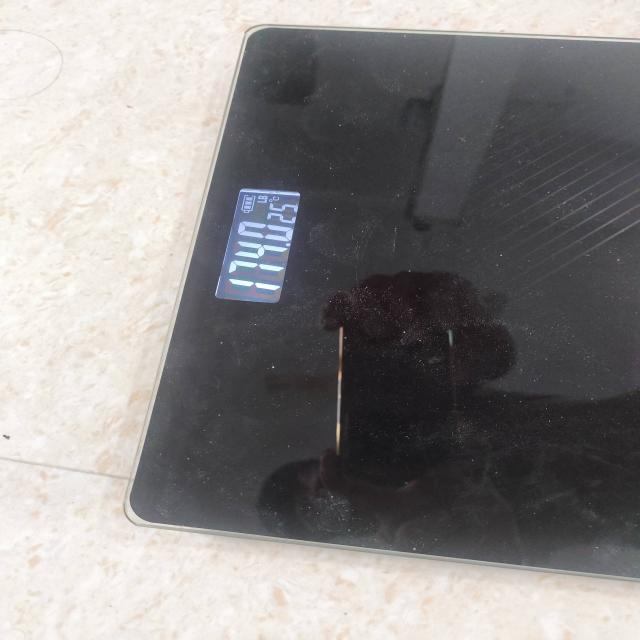ws: (133, 29, 640, 518)
